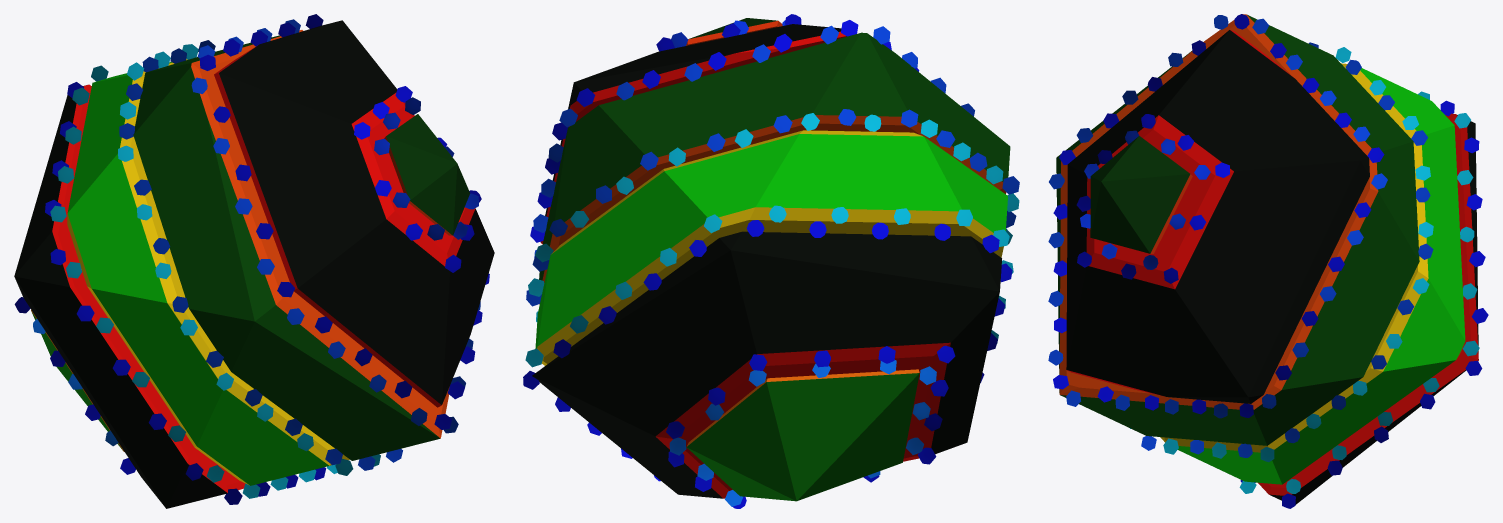
Rendered from FX_Mesh_Icosahedron_B.fbx.
3 views of the same model, side by side, from view 1: azimuth 30°, elevation 25°; view 2: azimuth 150°, elevation 25°; view 3: azimuth 270°, elevation 25° (orthographic). The views are drawn at different scales.
Visible parts, largest first — view 1: Icosahedron_B; view 2: Icosahedron_B; view 3: Icosahedron_B.
Part boxes in pixels (x1=…): Icosahedron_B: x1=14, y1=14, x2=494, y2=508; Icosahedron_B: x1=523, y1=14, x2=1019, y2=508; Icosahedron_B: x1=1048, y1=14, x2=1488, y2=508.
Bounding box in the file's own units: 1281 × 1241 × 1149.
